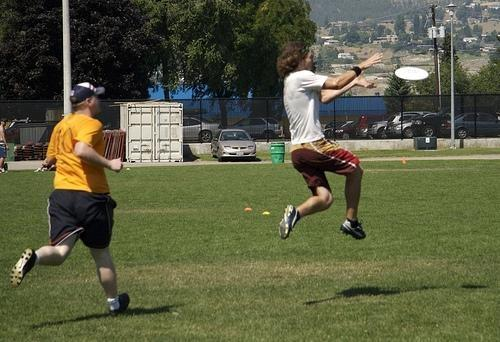car: (413, 106, 497, 138), (368, 111, 437, 139), (209, 128, 258, 164), (440, 114, 500, 138), (224, 118, 282, 138), (390, 114, 438, 138), (384, 113, 425, 138), (184, 114, 220, 142), (335, 120, 368, 140), (360, 116, 390, 128)
